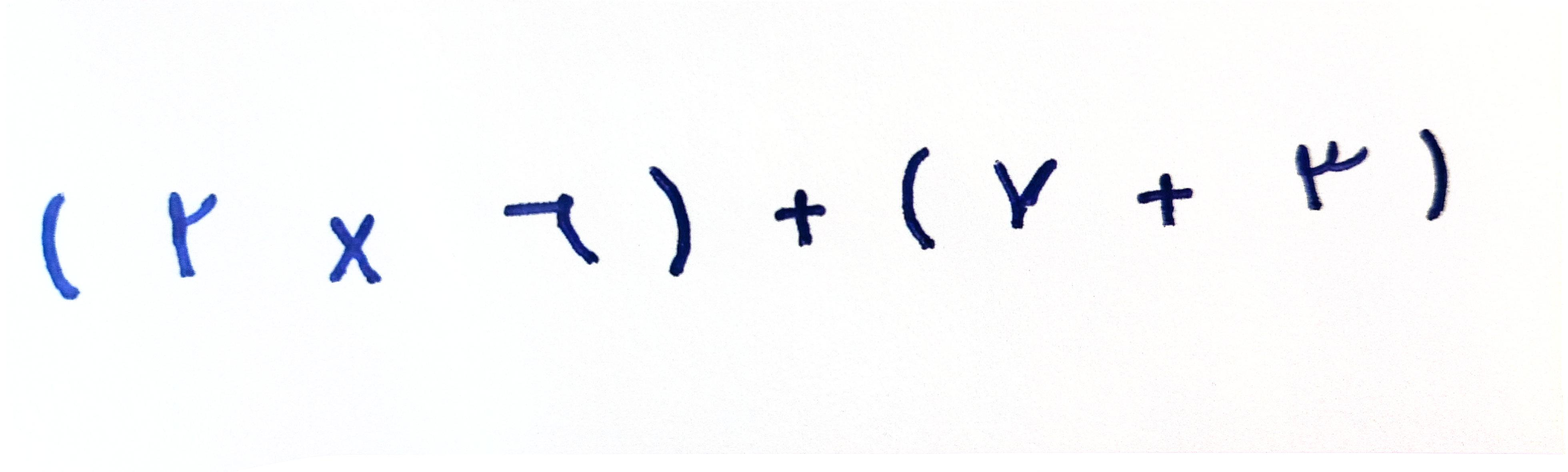character: (504, 194, 600, 263), (1295, 139, 1369, 209), (992, 157, 1059, 228), (648, 164, 690, 275), (166, 191, 216, 278), (42, 191, 80, 300), (901, 146, 935, 250), (330, 214, 380, 283), (774, 188, 826, 246), (1136, 174, 1193, 226), (1421, 126, 1447, 219)
